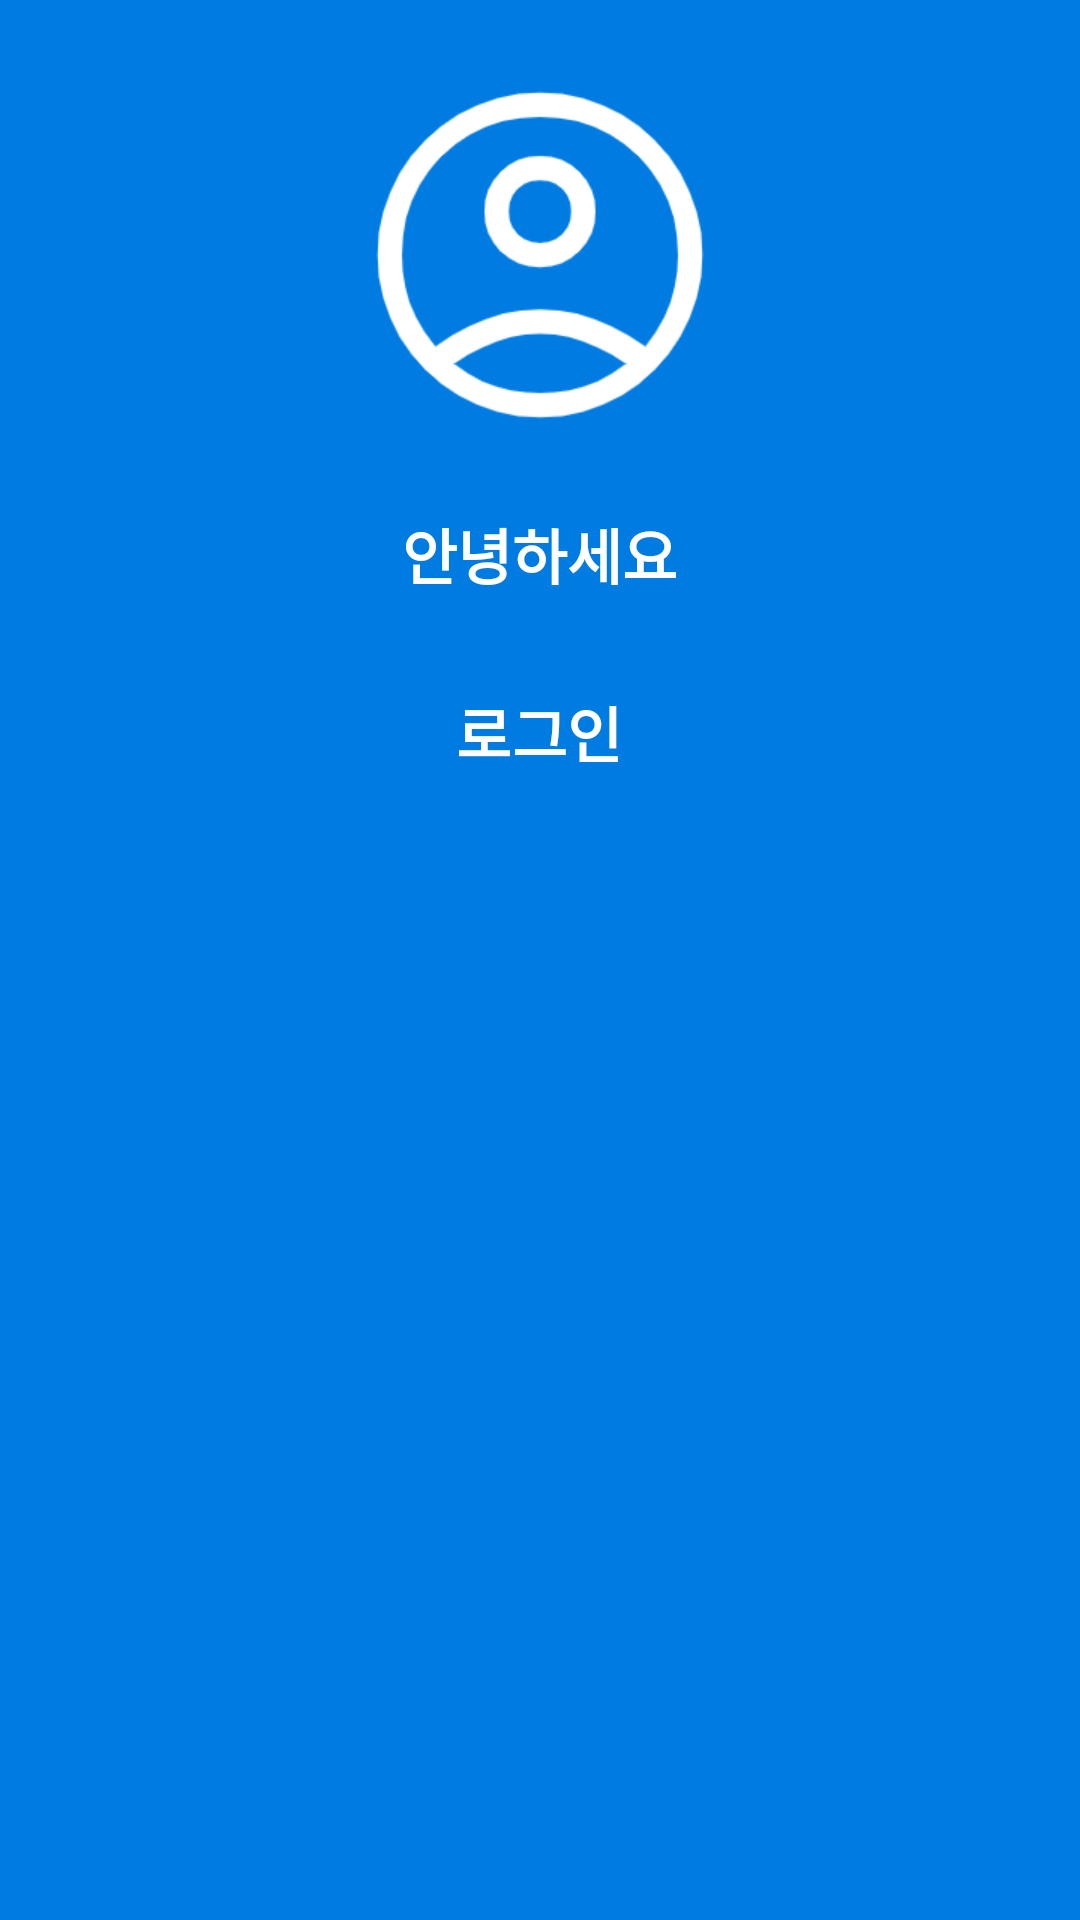

Screen size 1080×1920. Icon name, then its center in pixels as [x,y]:
user: [540,255]
